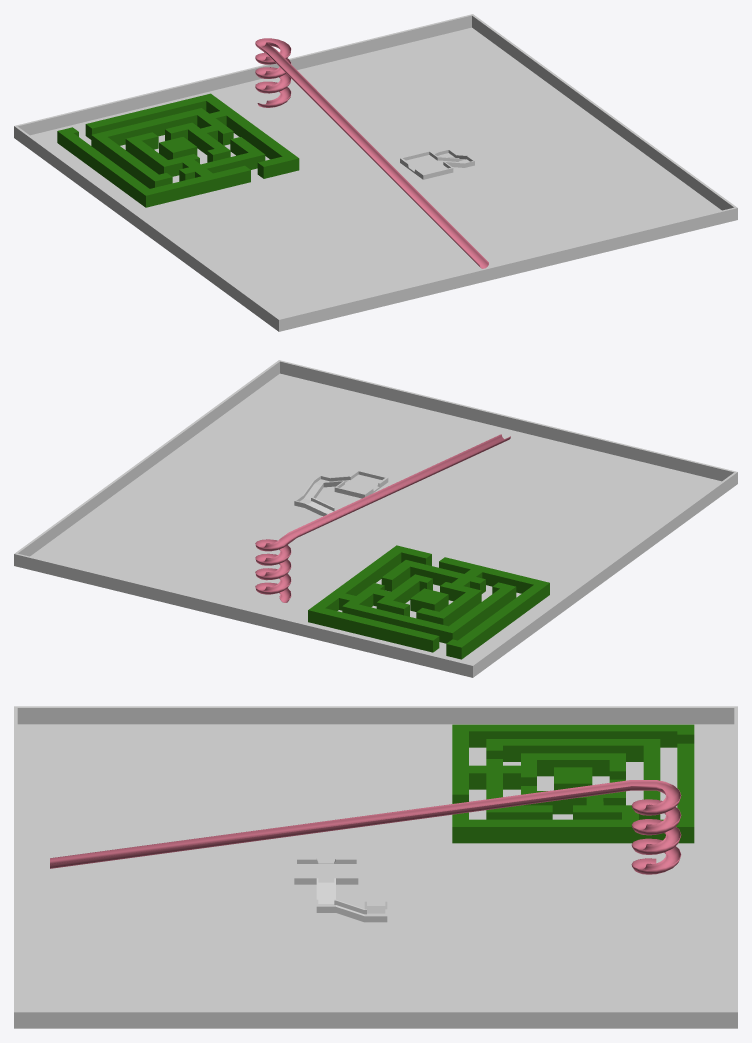
Rendered from physic_01.fbx.
3 views of the same model, one above another, from view 1: azimuth 30°, elevation 25°; view 2: azimuth 150°, elevation 25°; view 3: azimuth 270°, elevation 25° (orthographic). The views are drawn at different scales.
Visible parts, largest first — view 1: Plane, Labyrinth, Helix, Cube; view 2: Plane, Labyrinth, Helix, Cube; view 3: Plane, Labyrinth, Helix, Cube.
Boxes of the visible parts, x1=… form: Plane: x1=14, y1=14, x2=737, y2=331; Labyrinth: x1=57, y1=93, x2=299, y2=207; Helix: x1=255, y1=38, x2=488, y2=268; Cube: x1=400, y1=149, x2=474, y2=179; Plane: x1=14, y1=360, x2=737, y2=677; Labyrinth: x1=308, y1=545, x2=549, y2=659; Helix: x1=255, y1=434, x2=510, y2=602; Cube: x1=294, y1=470, x2=388, y2=516; Plane: x1=14, y1=706, x2=737, y2=1028; Labyrinth: x1=452, y1=724, x2=694, y2=843; Helix: x1=50, y1=780, x2=681, y2=874; Cube: x1=294, y1=858, x2=387, y2=922.
Bounding box in the file's own units: 200 × 26.55 × 200.
